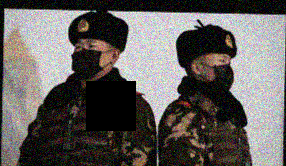with_mask: (70, 38, 111, 77), (199, 53, 234, 90)
